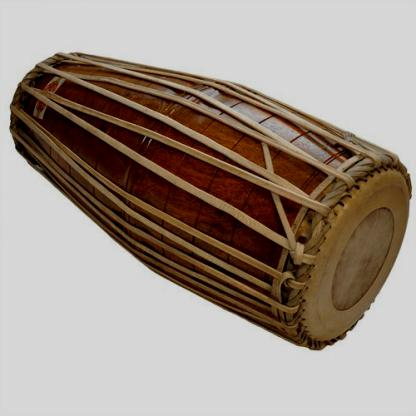Mridangam: (5, 1, 416, 358)
